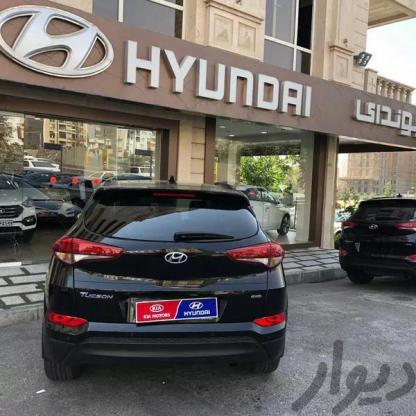Car: (40, 177, 286, 369), (339, 192, 416, 300), (0, 173, 52, 255), (248, 184, 300, 236), (29, 176, 78, 222)
